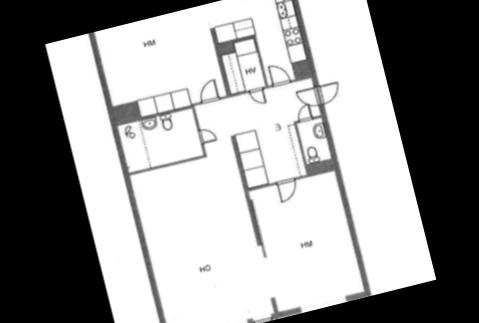door: (292, 82, 324, 110), (272, 174, 300, 205), (311, 80, 343, 106), (264, 60, 291, 90), (194, 77, 220, 105), (194, 124, 218, 146), (292, 102, 314, 126), (245, 83, 266, 107), (248, 311, 272, 323)
window: (292, 292, 350, 314), (165, 315, 253, 323)
